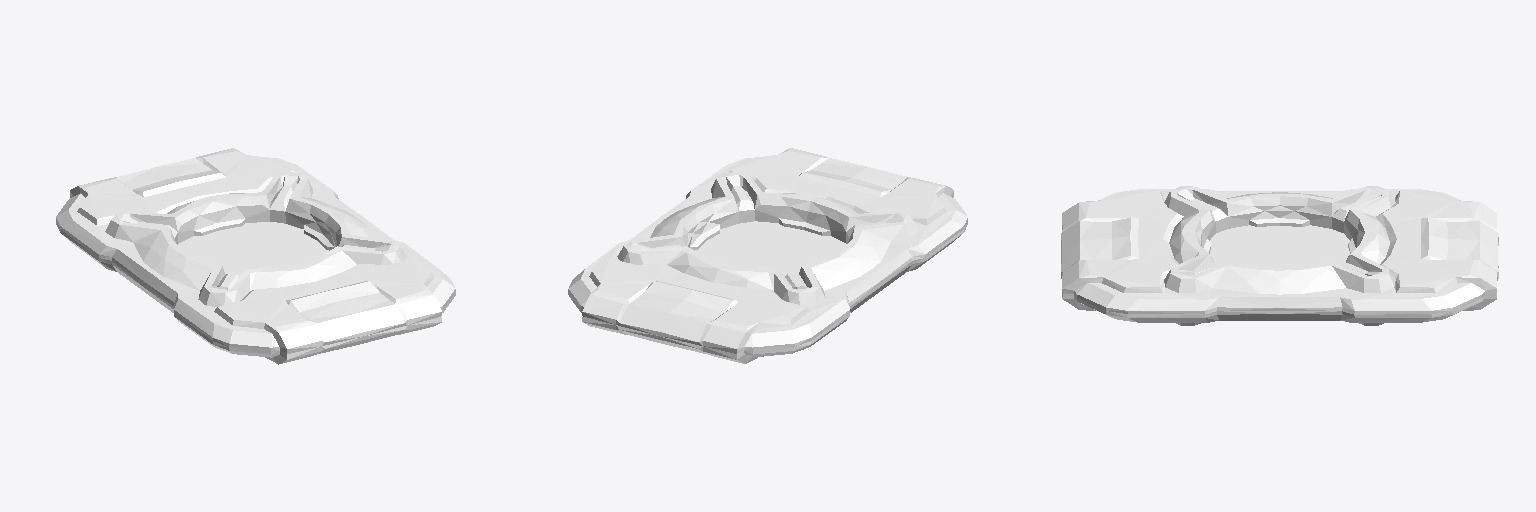
File: chip.obj
3 views of the same model, side by side, from view 1: azimuth 30°, elevation 25°; view 2: azimuth 150°, elevation 25°; view 3: azimuth 270°, elevation 25° (orthographic).
Parts seen in each view (by area): view 1: chip; view 2: chip; view 3: chip.
Part boxes in pixels (x1,y1,x2,y2): chip: (56, 148, 455, 364); chip: (568, 148, 967, 363); chip: (1061, 186, 1498, 325).
Bounding box in the file's own units: 1.94 × 0.373 × 3.06.